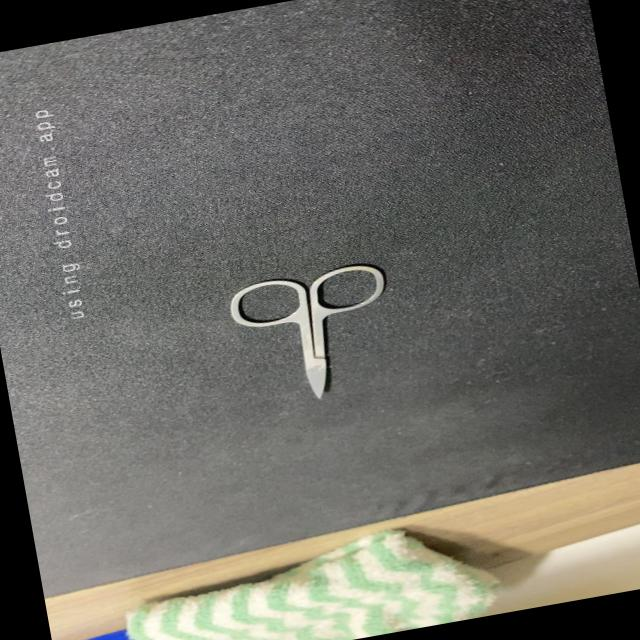scissor: (222, 255, 412, 420)
